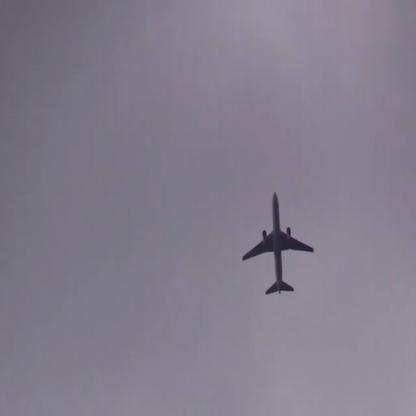CIV_Plane: (242, 191, 315, 294)
